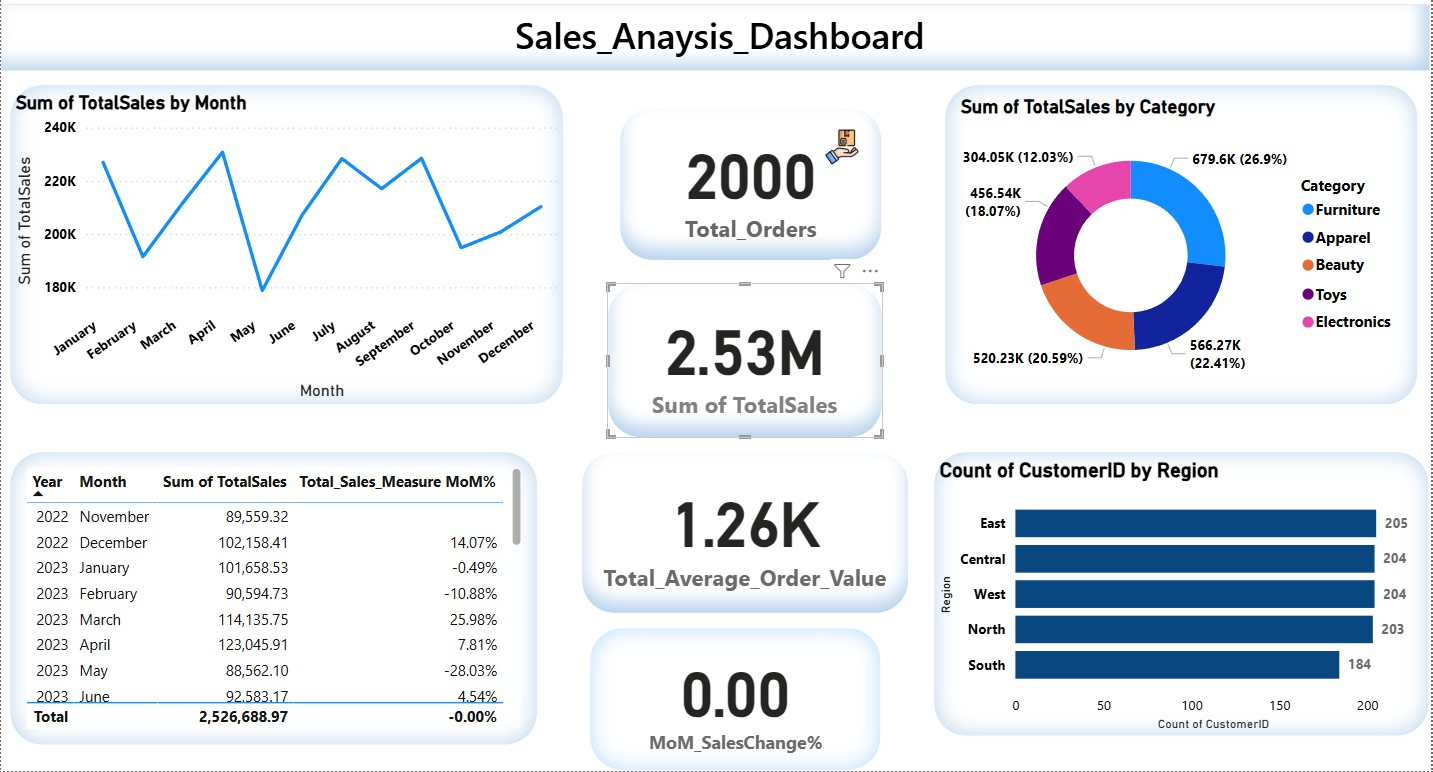

The page's visual inventory and layout, read from the dashboard file:
{"tool":"powerbi","page":{"name":"Page 1","canvas":[1280,720],"ordinal":0},"visuals":[{"type":"card","fields":{"Values":["Sum(Orders.TotalSales)"]},"box":[543.1,282.7,246.7,138.7],"z":0},{"type":"card","fields":{"Values":["Orders.Total_Sales"]},"box":[553.7,124.9,236.1,137.6],"z":1000},{"type":"donutChart","fields":{"Category":["Products.Category"],"Y":["Sum(Orders.TotalSales)"]},"box":[844.9,104.8,424.5,288],"z":2000},{"type":"lineChart","fields":{"Category":["Orders.OrderDate.Variation.Date Hierarchy.Month"],"Y":["Sum(Orders.TotalSales)"]},"box":[7.4,104.8,496.5,288],"z":3000},{"type":"barChart","fields":{"Category":["Customers.Region"],"Y":["CountNonNull(Customers.CustomerID)"]},"box":[834.3,433,444.7,256.2],"z":4000},{"type":"card","fields":{"Values":["Customers.Total_Average_Order_Value"]},"box":[519.4,433.4,293.7,146],"z":5000},{"type":"textbox","box":[0,33.1,1280,60.3],"z":6000},{"type":"image","box":[732.6,140.8,41.3,41.3],"z":7000},{"type":"image","box":[742.2,293.3,47.6,38.1],"z":8000},{"type":"tableEx","fields":{"Values":["Orders.OrderDate.Variation.Date Hierarchy.Year","Orders.OrderDate.Variation.Date Hierarchy.Month","Sum(Orders.TotalSales)","Customers.Total_Sales_Measure MoM%"]},"box":[7.4,433,474.3,263.6],"z":10000},{"type":"card","fields":{"Values":["Customers.MoM_SalesChange%"]},"box":[526.6,591,262.4,129],"z":11000}]}

Visuals, with their boxes on the page's 1280x720 design canvas (x1, y1, x2, y2). These are canvas units, not pixel positions in the 1433x772 screenshot, which may show the page scaled, cropped or inside an application window:
card - Sum(Orders.TotalSales): Rect(543, 283, 790, 421)
card - Orders.Total_Sales: Rect(554, 125, 790, 262)
donutChart - Products.Category x Sum(Orders.TotalSales): Rect(845, 105, 1269, 393)
lineChart - Orders.OrderDate.Variation.Date Hierarchy.Month x Sum(Orders.TotalSales): Rect(7, 105, 504, 393)
barChart - Customers.Region x CountNonNull(Customers.CustomerID): Rect(834, 433, 1279, 689)
card - Customers.Total_Average_Order_Value: Rect(519, 433, 813, 579)
textbox: Rect(0, 33, 1280, 93)
image: Rect(733, 141, 774, 182)
image: Rect(742, 293, 790, 331)
tableEx - Orders.OrderDate.Variation.Date Hierarchy.Year x Orders.OrderDate.Variation.Date Hierarchy.Month: Rect(7, 433, 482, 697)
card - Customers.MoM_SalesChange%: Rect(527, 591, 789, 720)
